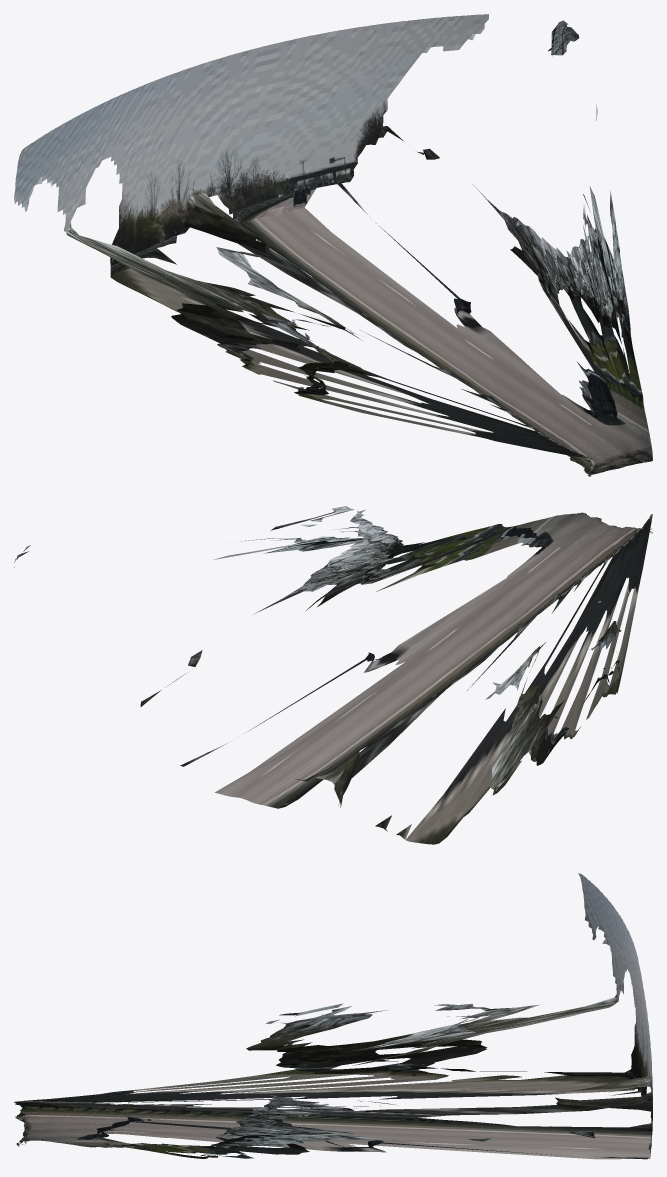
The picture shows the model from 3 angles, top to bottom: view 1: azimuth 30°, elevation 25°; view 2: azimuth 150°, elevation 25°; view 3: azimuth 270°, elevation 25°; orthographic projection. The views are drawn at different scales.
Visible parts, largest first — view 1: defaultobject; view 2: defaultobject; view 3: defaultobject.
Part boxes in pixels (bbox=[...]): defaultobject: bbox=[14, 14, 652, 476]; defaultobject: bbox=[14, 506, 652, 844]; defaultobject: bbox=[14, 873, 652, 1159].
Bounding box in the file's own units: 40.31 × 12.77 × 44.75.
1 material, 1 textured.
